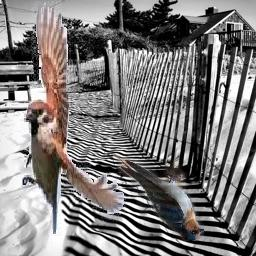Sparrow: (20, 2, 126, 237)
Swallow: (114, 153, 205, 241)
